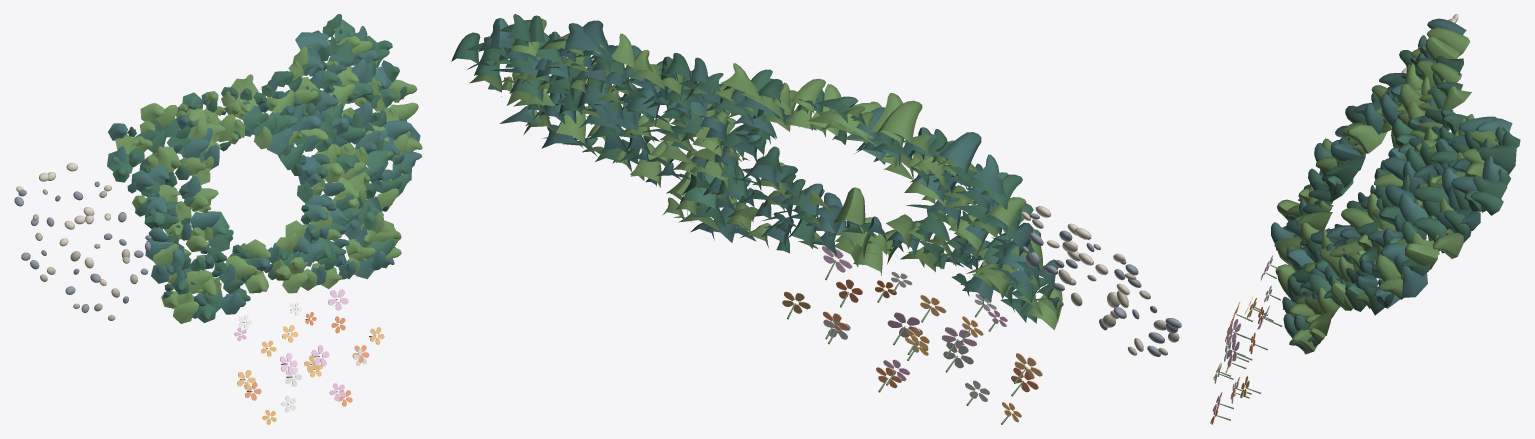
Rendered from patches-godot.glb.
The picture shows the model from 3 angles, left to right: view 1: azimuth 30°, elevation 25°; view 2: azimuth 150°, elevation 25°; view 3: azimuth 270°, elevation 25°; orthographic projection. The views are drawn at different scales.
Visible parts, largest first — view 1: grass:y1l0tv8aa:0, grass:y1l0tv8aa:2, grass:y1l0tv8aa:1, grass:y1l0tv8aa:3, grass:5zkjq7c0e:0, flowers:vsfoeefue:0, grass:5zkjq7c0e:1, pebbles:ipys47fue:0, grass:5zkjq7c0e:2, grass:5zkjq7c0e:3; view 2: grass:y1l0tv8aa:0, grass:y1l0tv8aa:1, grass:y1l0tv8aa:2, grass:y1l0tv8aa:3, flowers:vsfoeefue:0, grass:5zkjq7c0e:0, grass:5zkjq7c0e:1, grass:5zkjq7c0e:2, pebbles:ipys47fue:0, grass:5zkjq7c0e:3, stalks:vsfoeefue; view 3: grass:y1l0tv8aa:0, grass:y1l0tv8aa:1, grass:5zkjq7c0e:0, grass:y1l0tv8aa:2, grass:5zkjq7c0e:1, grass:y1l0tv8aa:3, grass:5zkjq7c0e:3, grass:5zkjq7c0e:2, flowers:vsfoeefue:0, stalks:vsfoeefue.
Boxes of the visible parts, <box> form: grass:y1l0tv8aa:0: <box>108,76,401,323</box>; grass:y1l0tv8aa:2: <box>107,75,401,322</box>; grass:y1l0tv8aa:1: <box>127,71,401,318</box>; grass:y1l0tv8aa:3: <box>107,72,395,312</box>; grass:5zkjq7c0e:0: <box>308,19,418,181</box>; flowers:vsfoeefue:0: <box>234,289,384,424</box>; grass:5zkjq7c0e:1: <box>292,14,422,197</box>; pebbles:ipys47fue:0: <box>14,163,151,320</box>; grass:5zkjq7c0e:2: <box>288,19,422,175</box>; grass:5zkjq7c0e:3: <box>301,30,420,180</box>; grass:y1l0tv8aa:0: <box>615,56,1062,329</box>; grass:y1l0tv8aa:1: <box>624,53,1047,323</box>; grass:y1l0tv8aa:2: <box>621,64,1063,322</box>; grass:y1l0tv8aa:3: <box>618,63,1059,316</box>; flowers:vsfoeefue:0: <box>782,246,1042,422</box>; grass:5zkjq7c0e:0: <box>451,15,654,165</box>; grass:5zkjq7c0e:1: <box>469,14,647,171</box>; grass:5zkjq7c0e:2: <box>487,18,654,156</box>; pebbles:ipys47fue:0: <box>1020,206,1181,356</box>; grass:5zkjq7c0e:3: <box>467,31,634,156</box>; stalks:vsfoeefue: <box>787,260,1027,424</box>; grass:y1l0tv8aa:0: <box>1271,18,1470,337</box>; grass:y1l0tv8aa:1: <box>1274,44,1467,351</box>; grass:5zkjq7c0e:0: <box>1355,126,1504,285</box>; grass:y1l0tv8aa:2: <box>1282,35,1463,354</box>; grass:5zkjq7c0e:1: <box>1345,114,1520,311</box>; grass:y1l0tv8aa:3: <box>1282,58,1471,346</box>; grass:5zkjq7c0e:3: <box>1363,127,1510,315</box>; grass:5zkjq7c0e:2: <box>1356,118,1516,308</box>; flowers:vsfoeefue:0: <box>1210,255,1273,424</box>; stalks:vsfoeefue: <box>1217,264,1282,420</box>.
Bounding box in the file's own units: 21.82 × 14.45 × 11.22.
